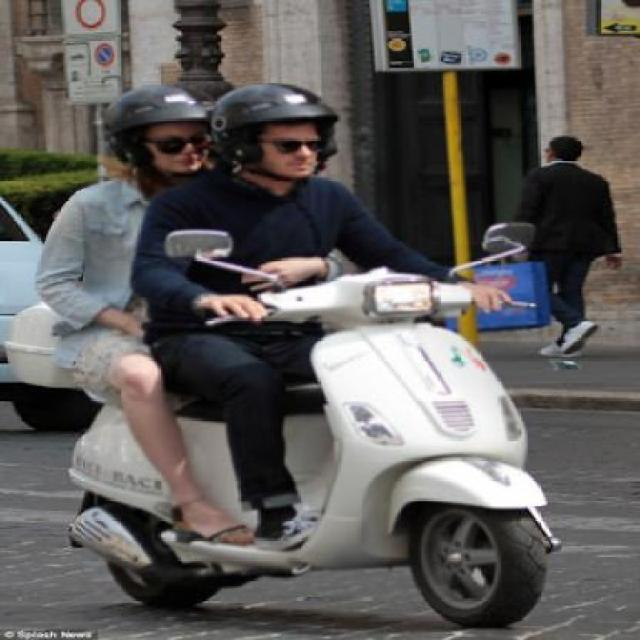helmet: (212, 68, 354, 208), (96, 81, 222, 193)
motorcycle: (33, 66, 577, 640)
